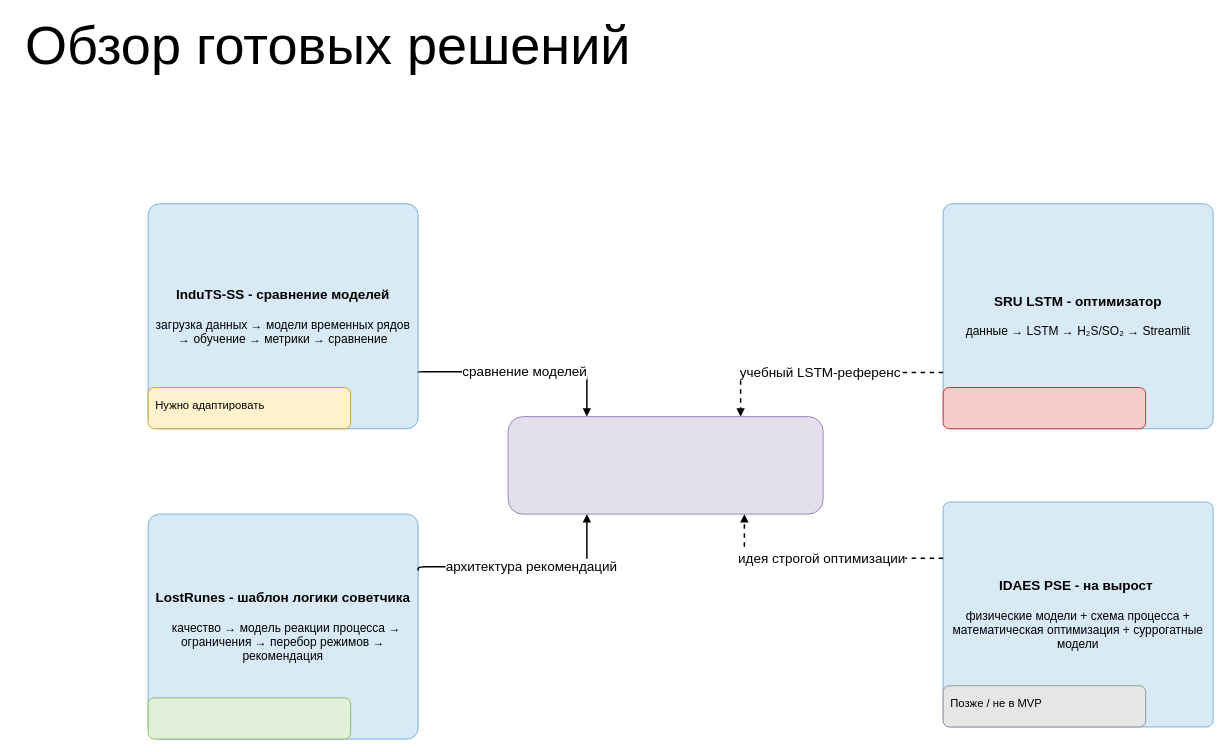
Some shapes in this 1226 by 752 pixel diagram are drawn without their labels. The centre of each missing label's shape, as x and y in pixels:
Можно взять / подключить: the point at 249,718
НАШ ПРОЕКТ: the point at 665,465
Разрабатываем сами: the point at 1044,408
